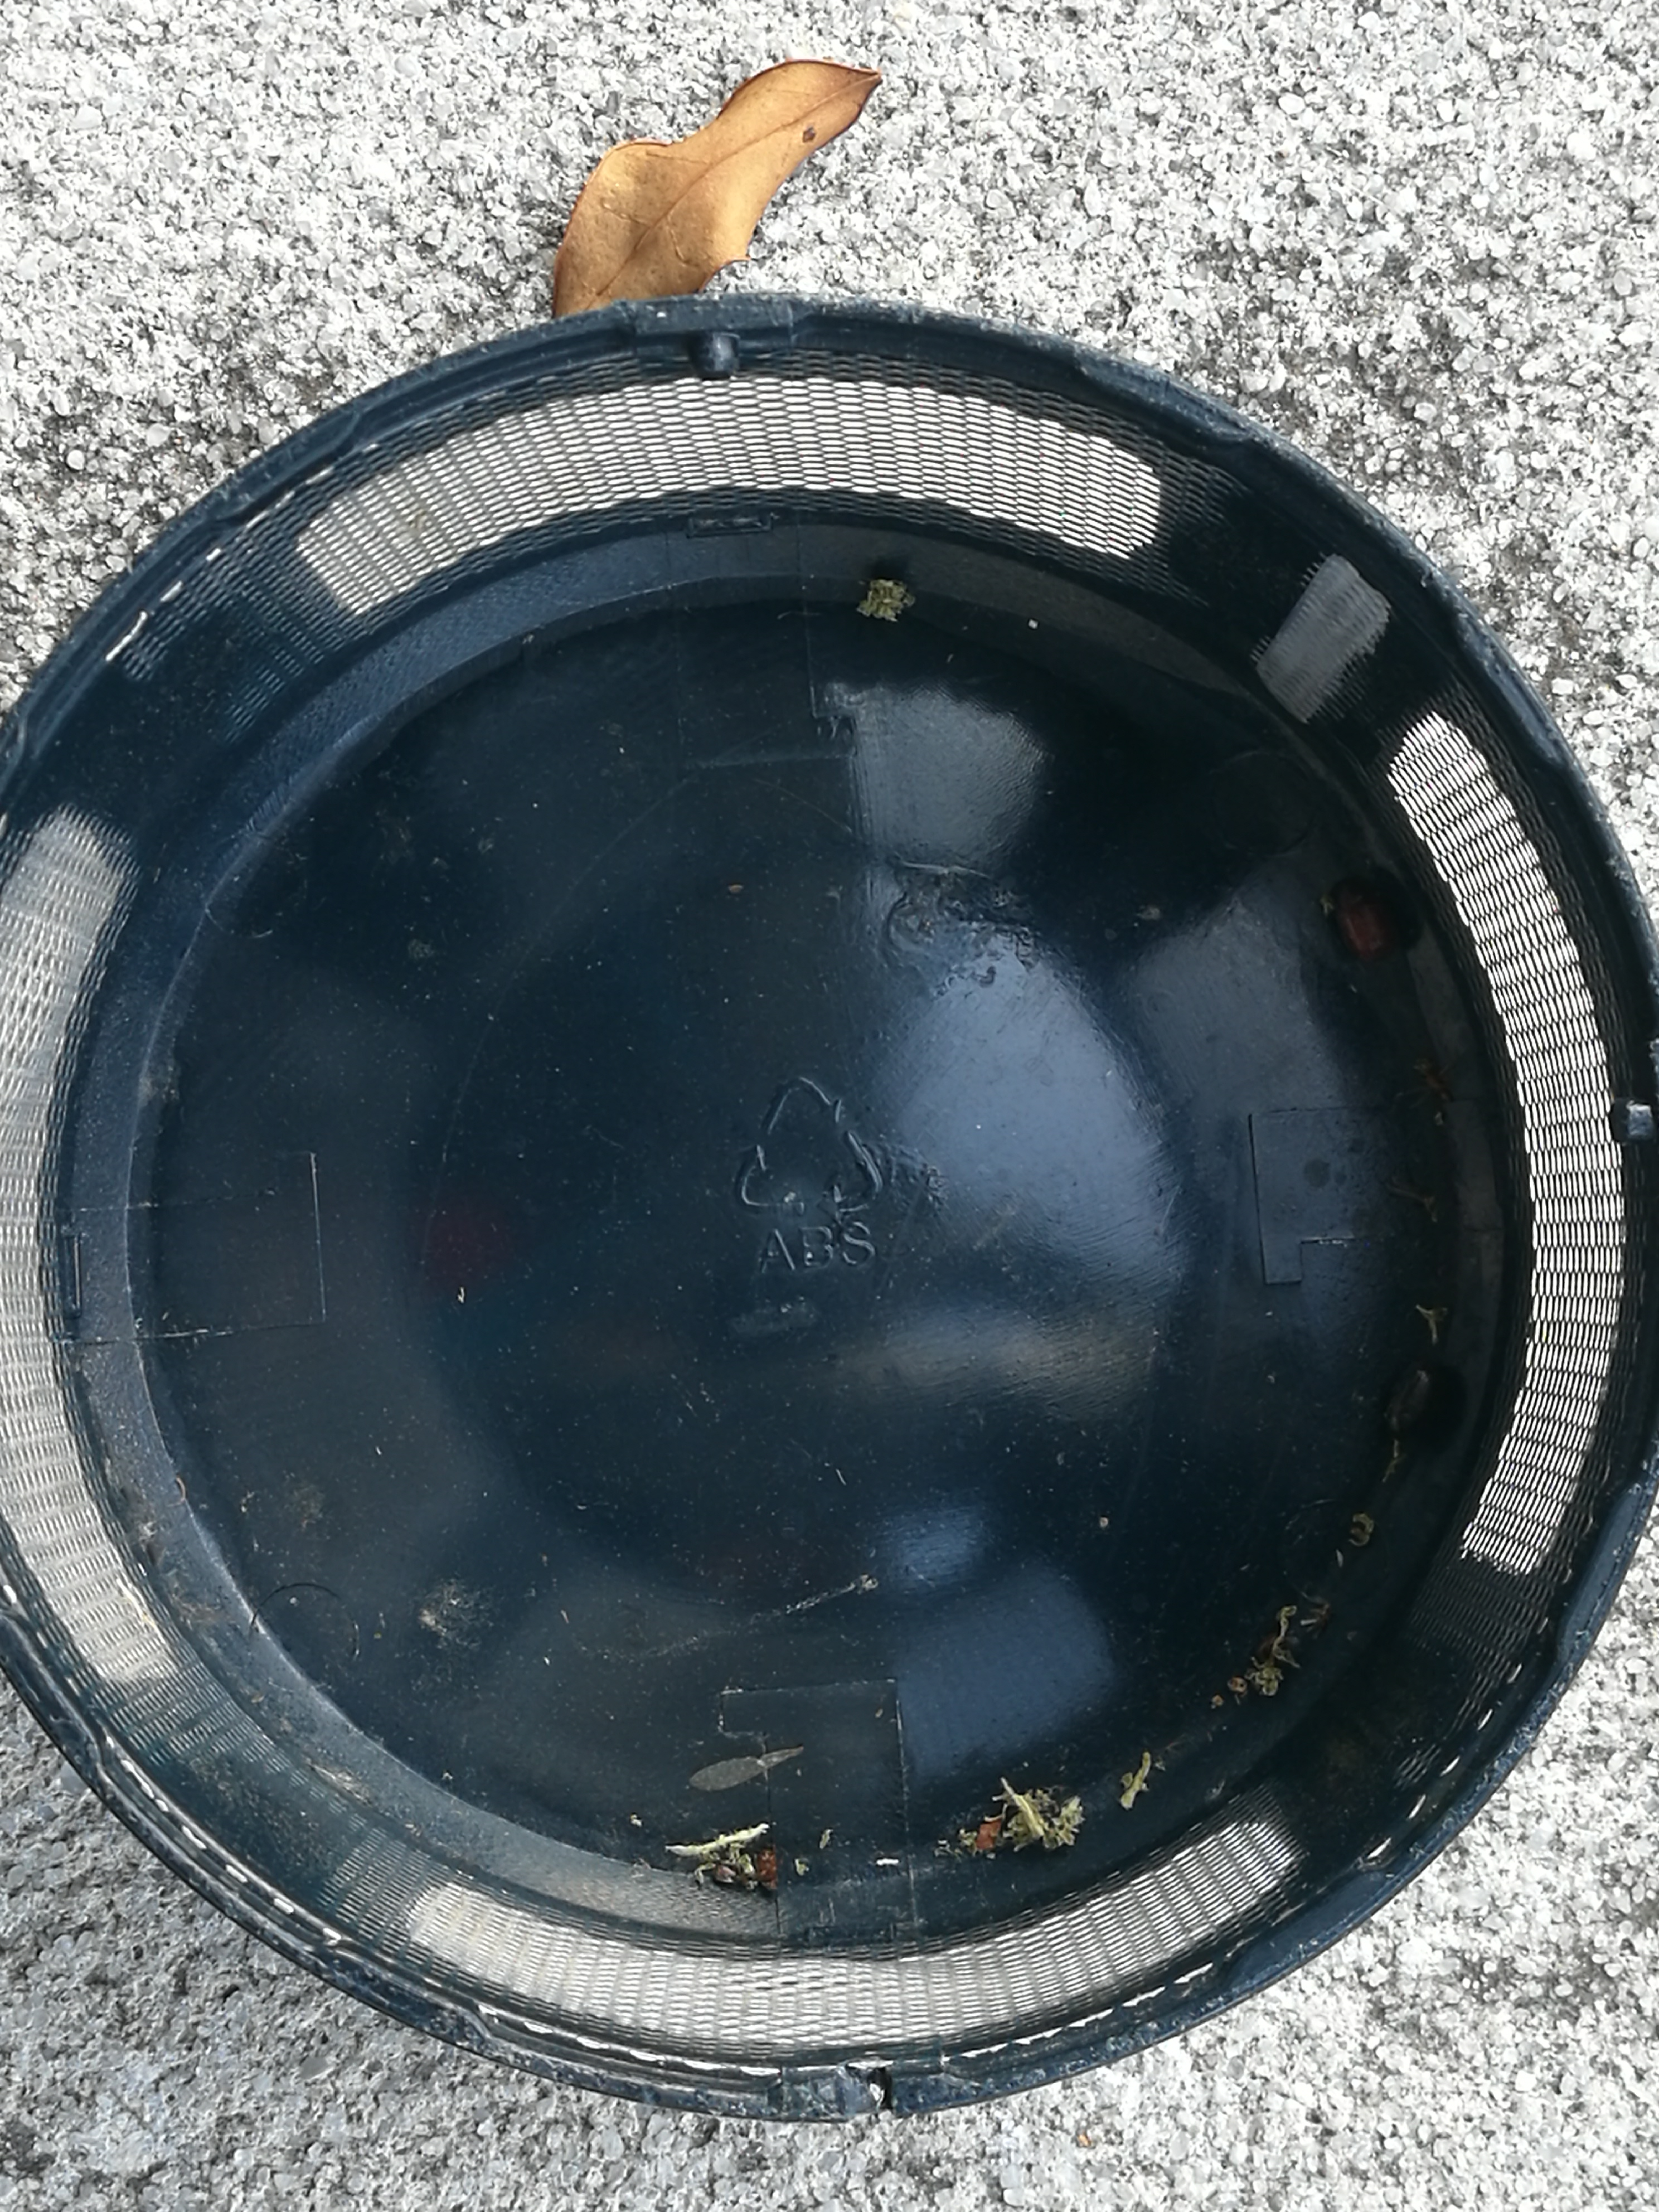beetle: (1335, 876, 1392, 956), (1385, 1362, 1438, 1435)
